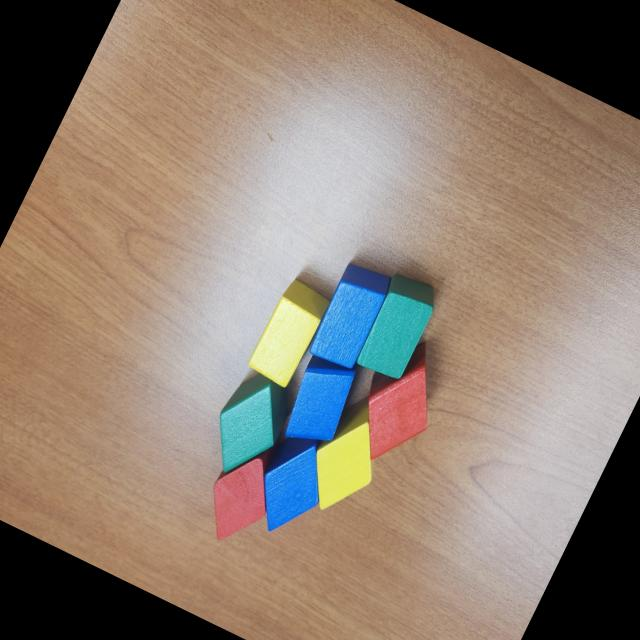blue: (240, 424, 342, 546), (266, 346, 364, 462), (304, 256, 395, 374)
green: (195, 363, 302, 489), (351, 269, 444, 385)
red: (340, 326, 460, 476), (192, 432, 292, 552)
yellow: (292, 384, 404, 524), (244, 276, 332, 388)
